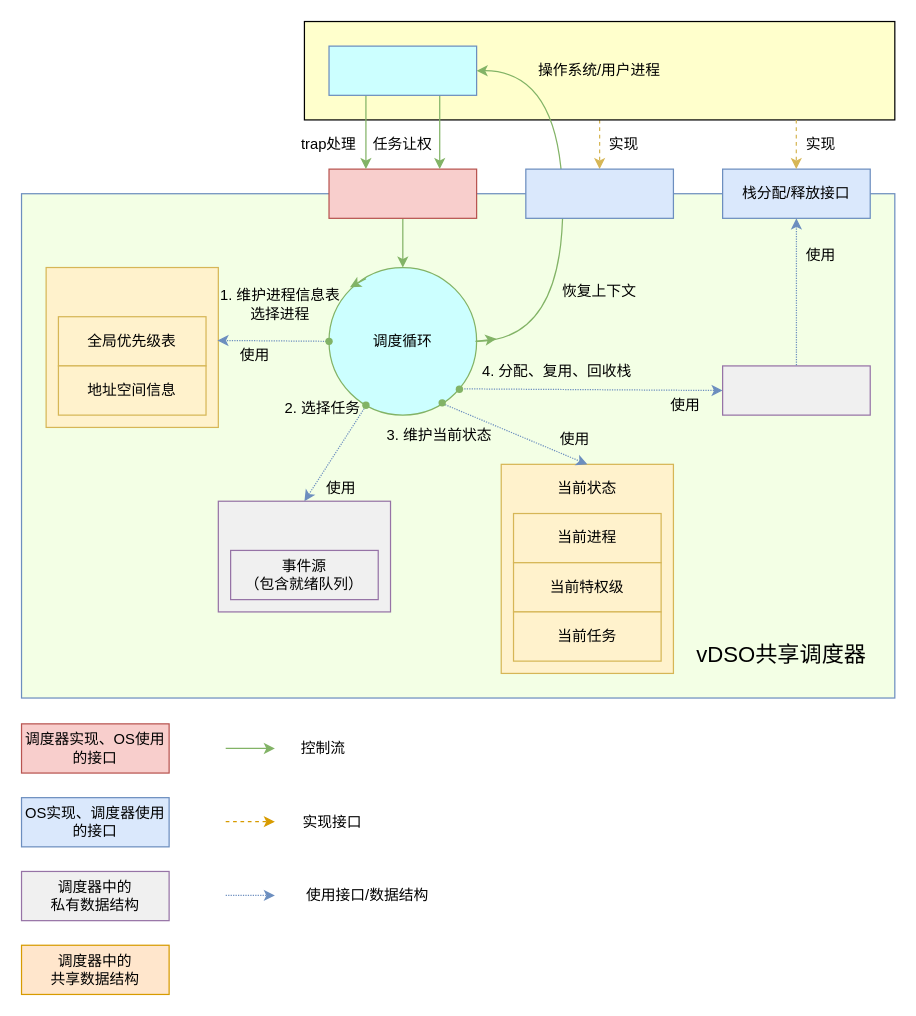
The diagram is 916 pixels wide and 1016 high, and some of its shapes have lost their labels. The shapes that lost their labels are listed below. From the top down, each one's centre as x and y in pixels, then its label:
the point at 402,70: 任务
the point at 402,193: 任务调度入口
the point at 599,193: 上下文切换接口
the point at 131,291: 全局进程信息表
the point at 795,390: 栈池
the point at 304,525: 进程内任务选择器
